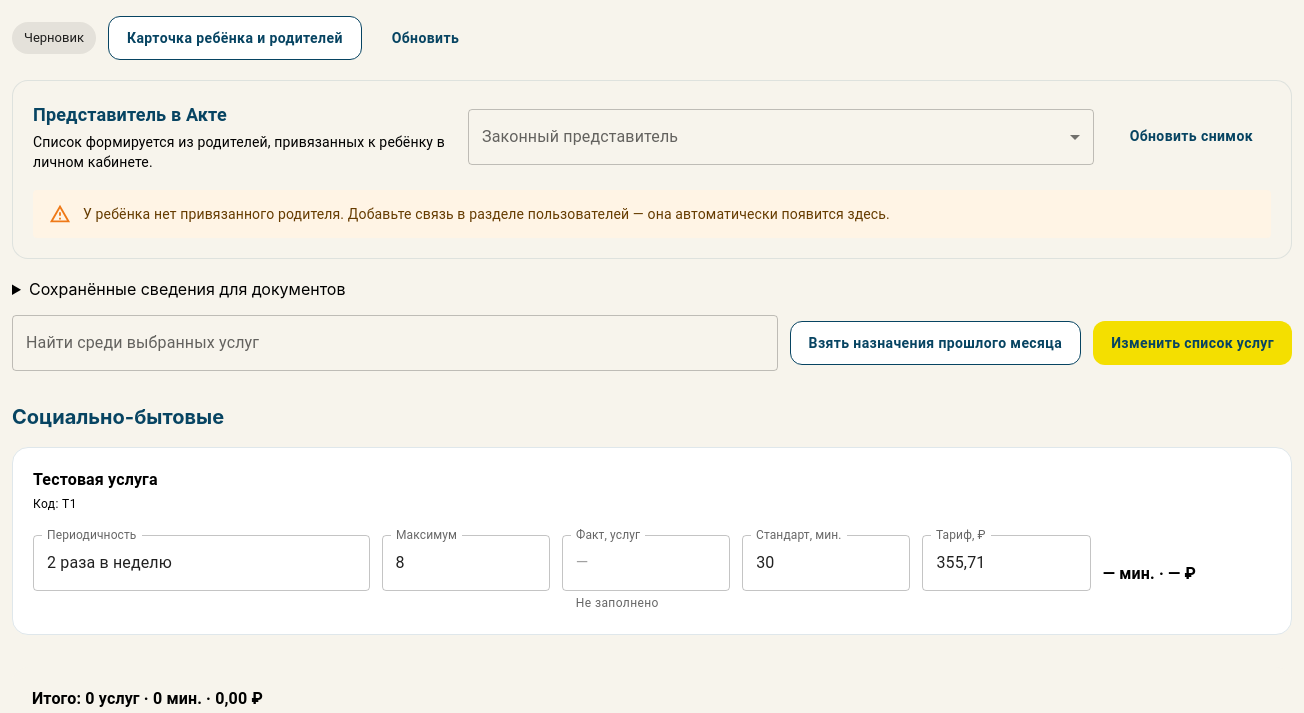
Test: failed reload is not presented as successfully refreshed old data
The width and height of the screenshot is (1304, 713).
Click the button "Обновить" at (426, 38), box [374,16,477,60]
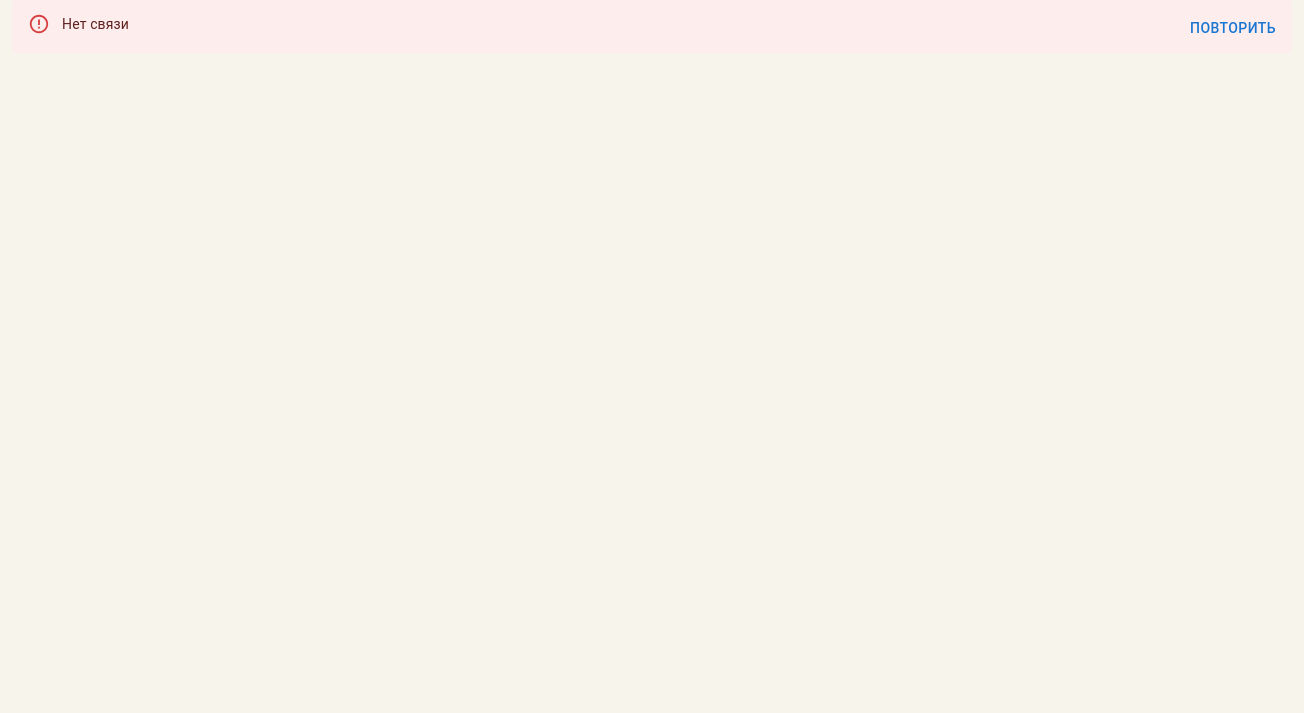
Expected: the text "Нет связи" is shown, [62,16,129,32]
